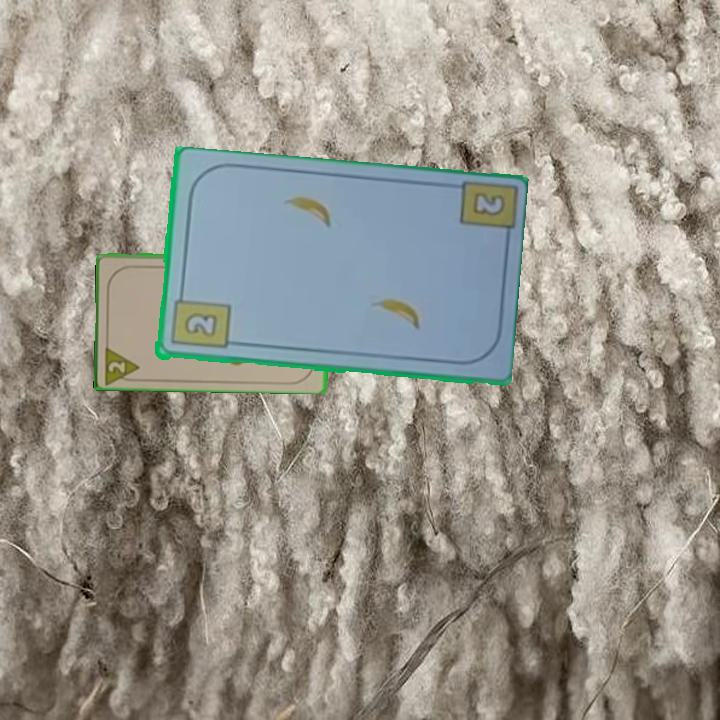2b: (167, 287, 232, 352), (468, 189, 508, 220)
2p: (101, 341, 143, 385)
